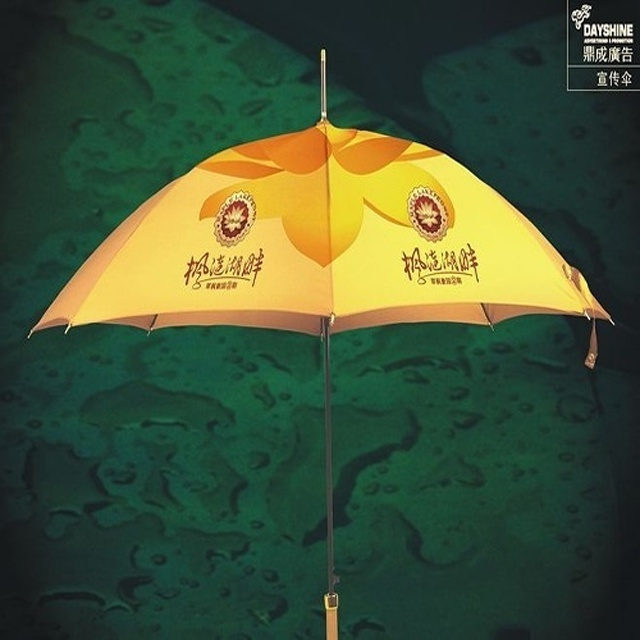umbrella: (23, 48, 620, 640)
